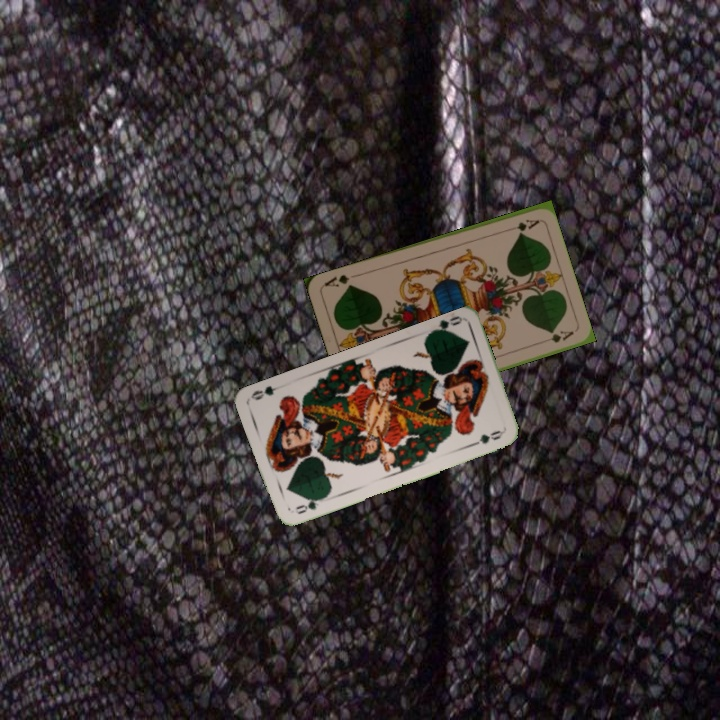GA: (501, 215, 541, 234)
GO: (425, 312, 464, 337), (292, 493, 328, 517)
